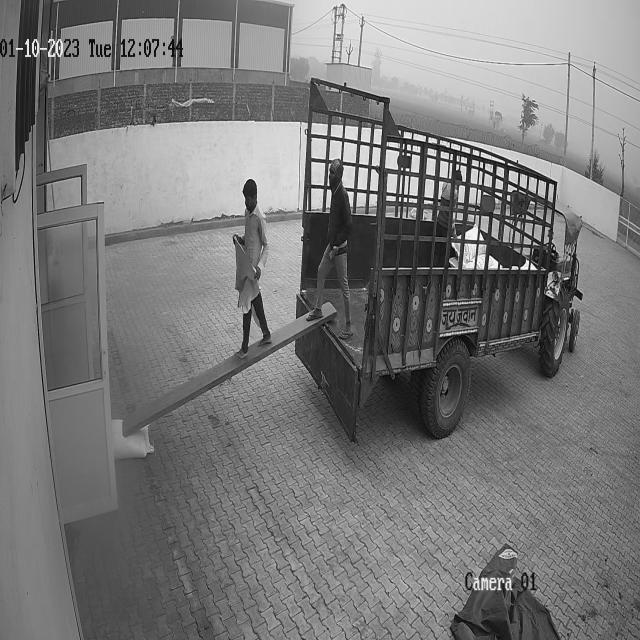sack: (112, 418, 154, 460)
